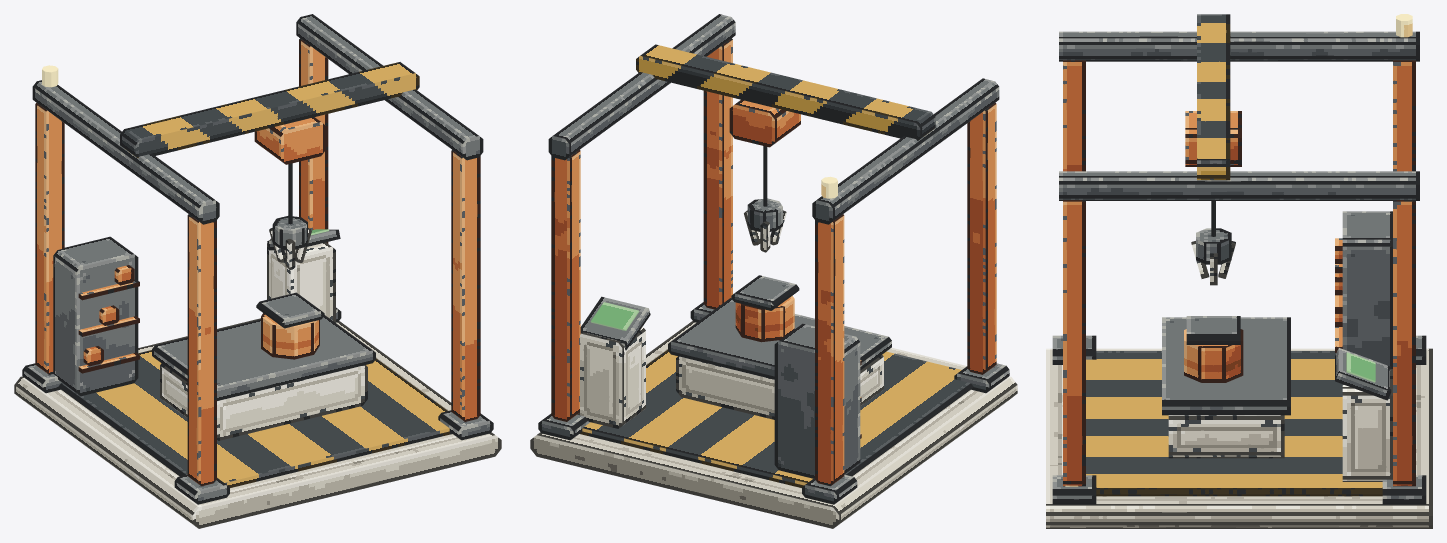
File: upgrader.glb
The picture shows the model from 3 angles, left to right: view 1: azimuth 30°, elevation 25°; view 2: azimuth 150°, elevation 25°; view 3: azimuth 270°, elevation 25°; orthographic projection. The views are drawn at different scales.
Parts seen in each view (by area): view 1: deck, base, rack, bridge, benchtop, leg2, leg3, bench, leg0, rail0, rail1, lectern (+8 smaller); view 2: deck, base, bridge, rack, leg0, leg1, leg3, leg2, rail0, lectern, benchtop, rail1 (+10 smaller); view 3: deck, base, rail1, rail0, benchtop, rack, leg1, leg2, bridge, bench, lectern, leg0 (+10 smaller).
Part boxes in pixels (<box>): deck: <box>58,350,452,487</box>; base: <box>14,318,501,528</box>; rack: <box>53,236,138,396</box>; bridge: <box>120,62,419,158</box>; benchtop: <box>152,315,375,400</box>; leg2: <box>451,149,480,421</box>; leg3: <box>187,214,216,486</box>; bench: <box>160,363,367,440</box>; leg0: <box>35,102,64,374</box>; rail0: <box>32,80,219,224</box>; rail1: <box>296,14,483,160</box>; lectern: <box>267,238,335,322</box>; deck: <box>579,349,973,487</box>; base: <box>530,321,1017,528</box>; bridge: <box>636,44,935,140</box>; rack: <box>774,323,860,478</box>; leg0: <box>815,214,844,486</box>; leg1: <box>551,149,580,421</box>; leg3: <box>967,102,996,374</box>; leg2: <box>703,38,732,309</box>; rail0: <box>812,78,999,224</box>; lectern: <box>577,326,645,428</box>; benchtop: <box>668,298,891,379</box>; rail1: <box>548,14,735,160</box>; deck: <box>1086,351,1382,496</box>; base: <box>1046,348,1432,528</box>; rail1: <box>1059,171,1419,200</box>; rail0: <box>1059,31,1419,61</box>; benchtop: <box>1162,317,1290,415</box>; rack: <box>1342,211,1392,368</box>; leg1: <box>1393,200,1415,486</box>; leg2: <box>1063,200,1085,486</box>; bridge: <box>1197,14,1230,180</box>; bench: <box>1168,415,1284,458</box>; lectern: <box>1342,369,1392,481</box>; leg0: <box>1393,60,1415,171</box>.
Bounding box in the file's own units: 30 × 31.1 × 30.
Materials: 1 (1 with a texture image).
